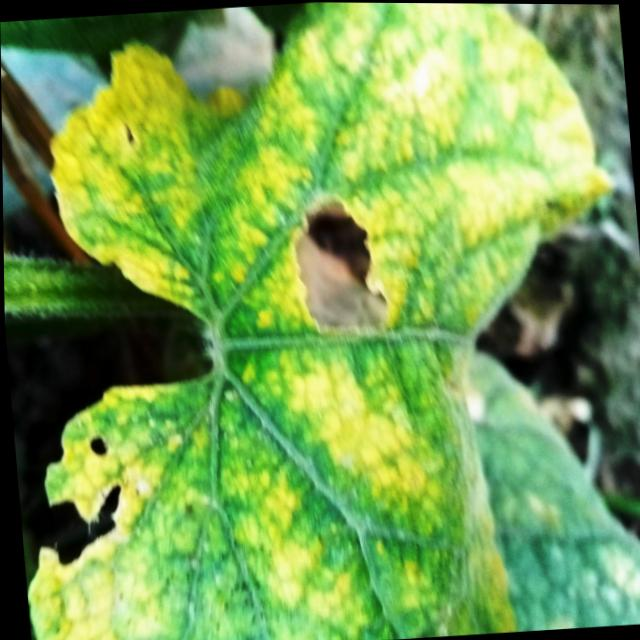Anthracnose: (284, 191, 395, 348), (35, 428, 133, 569)
